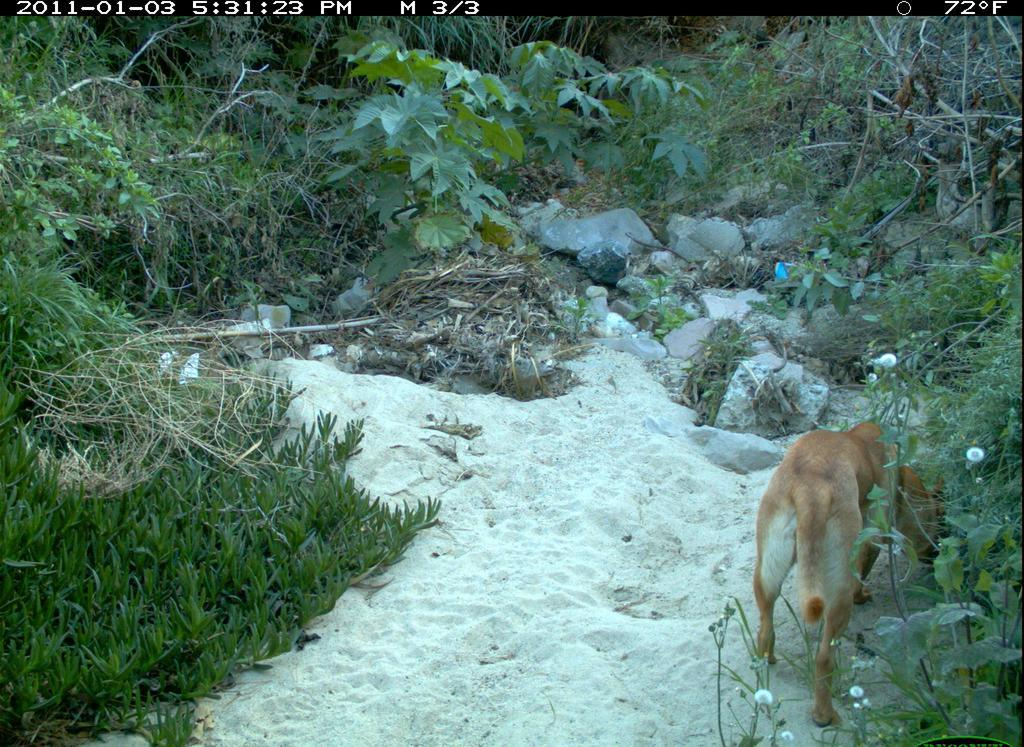dog: (744, 409, 957, 728)
